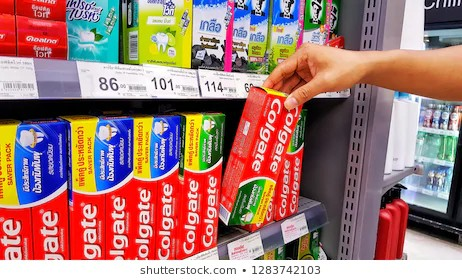colgate-family: (69, 116, 135, 261), (227, 96, 300, 224), (134, 116, 181, 260), (177, 116, 223, 258)
